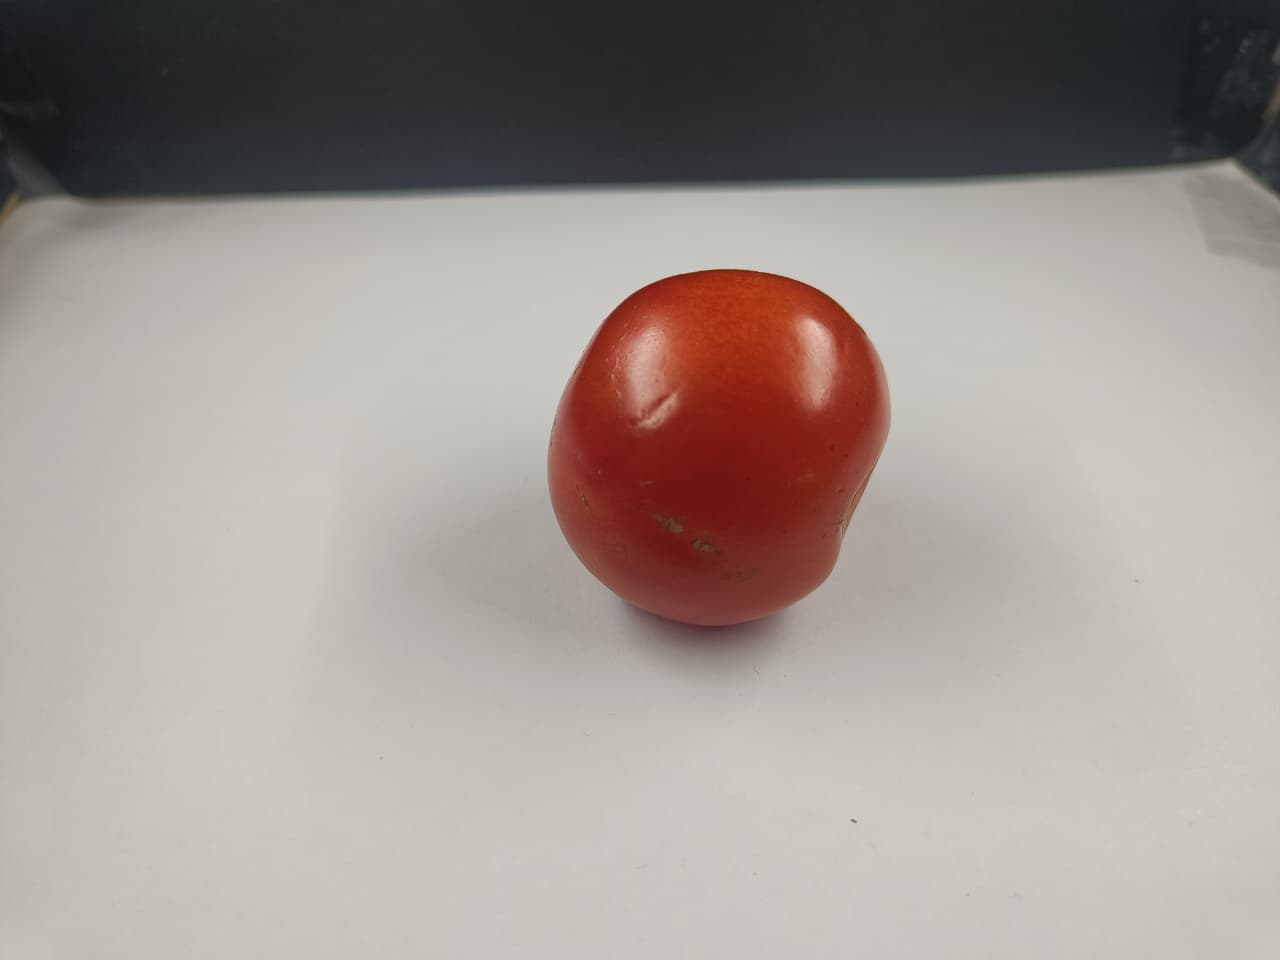ripe: (513, 264, 909, 636)
